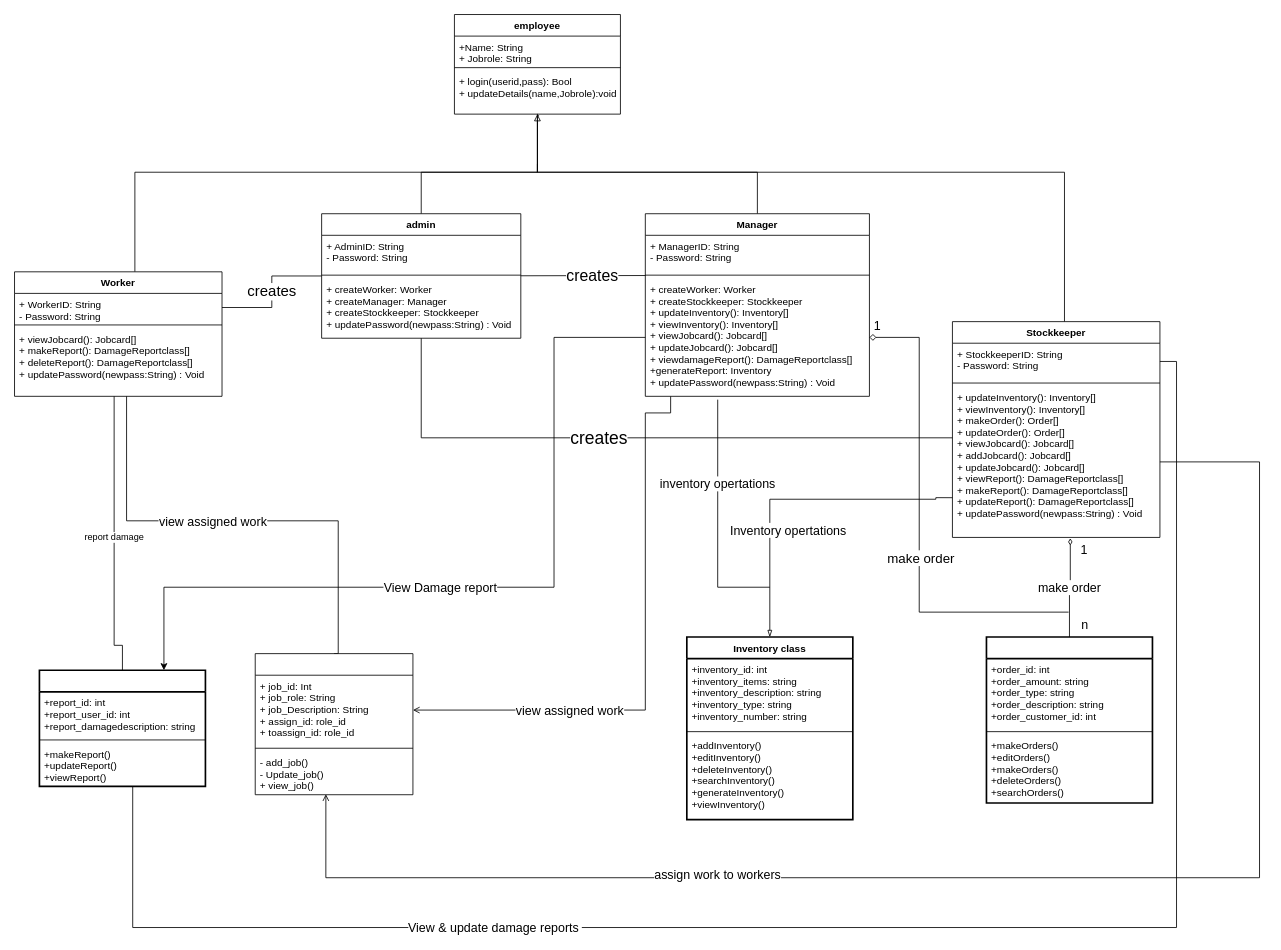
Some shapes in this 1281 by 950 pixel diagram are drawn without their labels. Here are the shapes that lost their labels. From the top down, the box of each, then its label:
(38, 669, 206, 787): Damage Report
(254, 653, 413, 795): Jobcard
(985, 636, 1153, 803): order class
